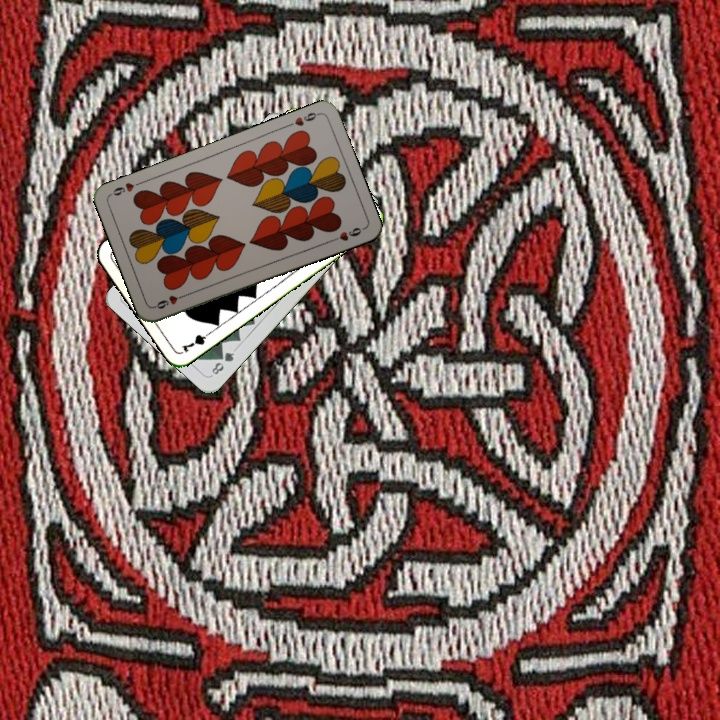G7: (177, 327, 215, 355)
G8: (207, 348, 237, 377)
H9: (150, 290, 189, 311), (291, 108, 322, 129)
